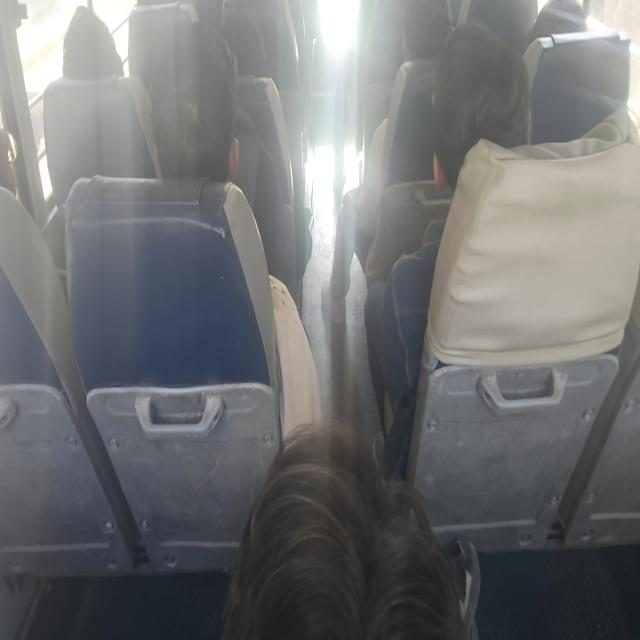person: (229, 434, 482, 640), (141, 55, 246, 188), (431, 44, 522, 193), (59, 2, 128, 87), (206, 0, 268, 86), (528, 0, 592, 59), (395, 0, 440, 72), (0, 113, 21, 199)
